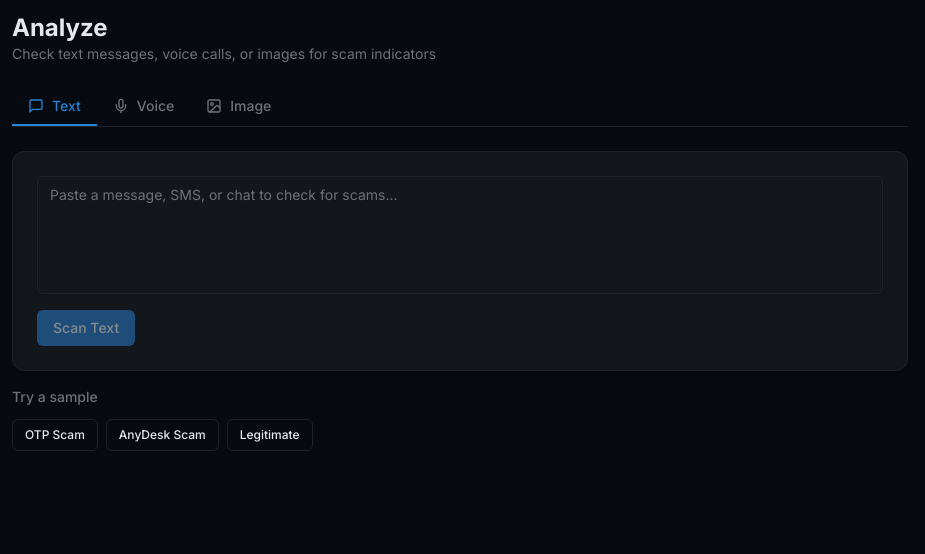
Test: Analyze Page › shows error on analyzeChat failure
The width and height of the screenshot is (925, 554).
Type "test message" into the text box with placeholder "Paste a message, SMS, or chat to check for scams..." at x=460, y=235, box [37,176,883,294]
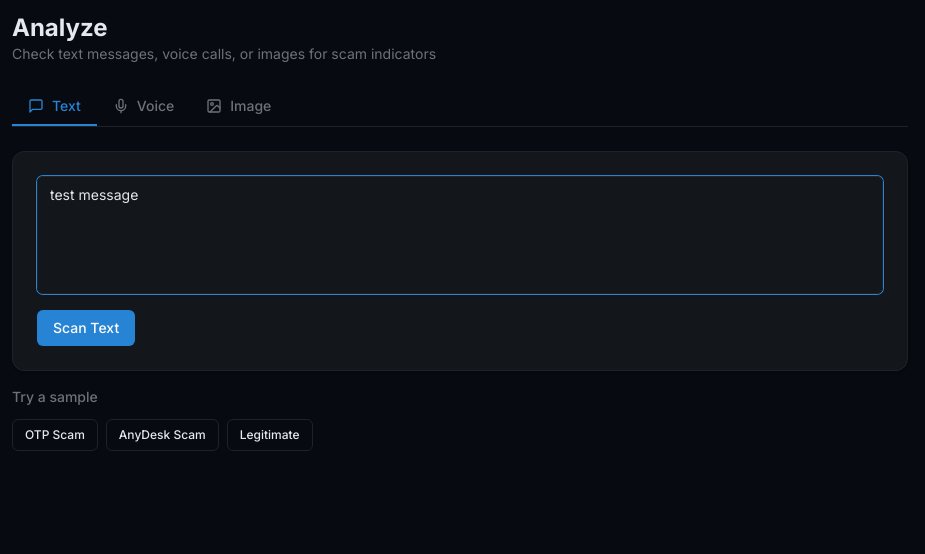
Click the button "Scan Text" at x=86, y=328, box [37,310,135,346]
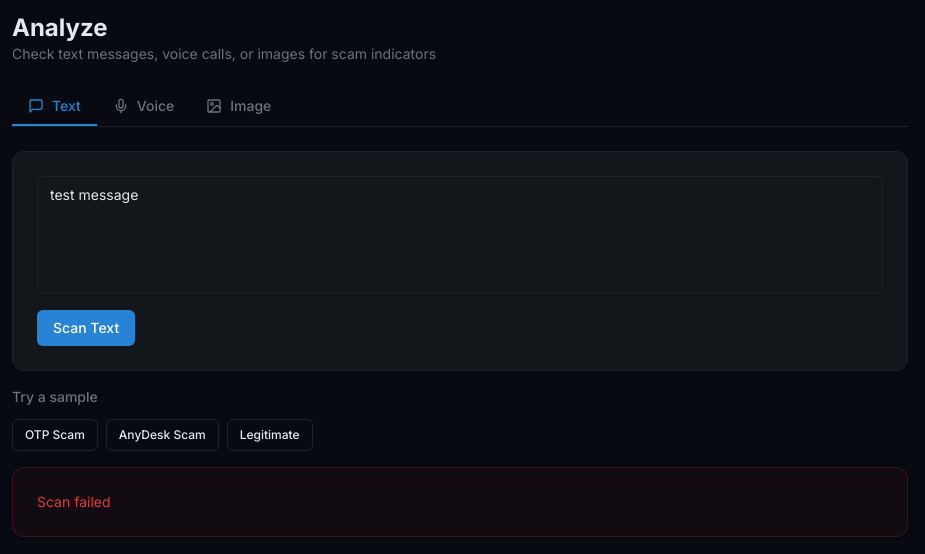
Now the text "Scan failed" is shown, box [37,493,110,510]
